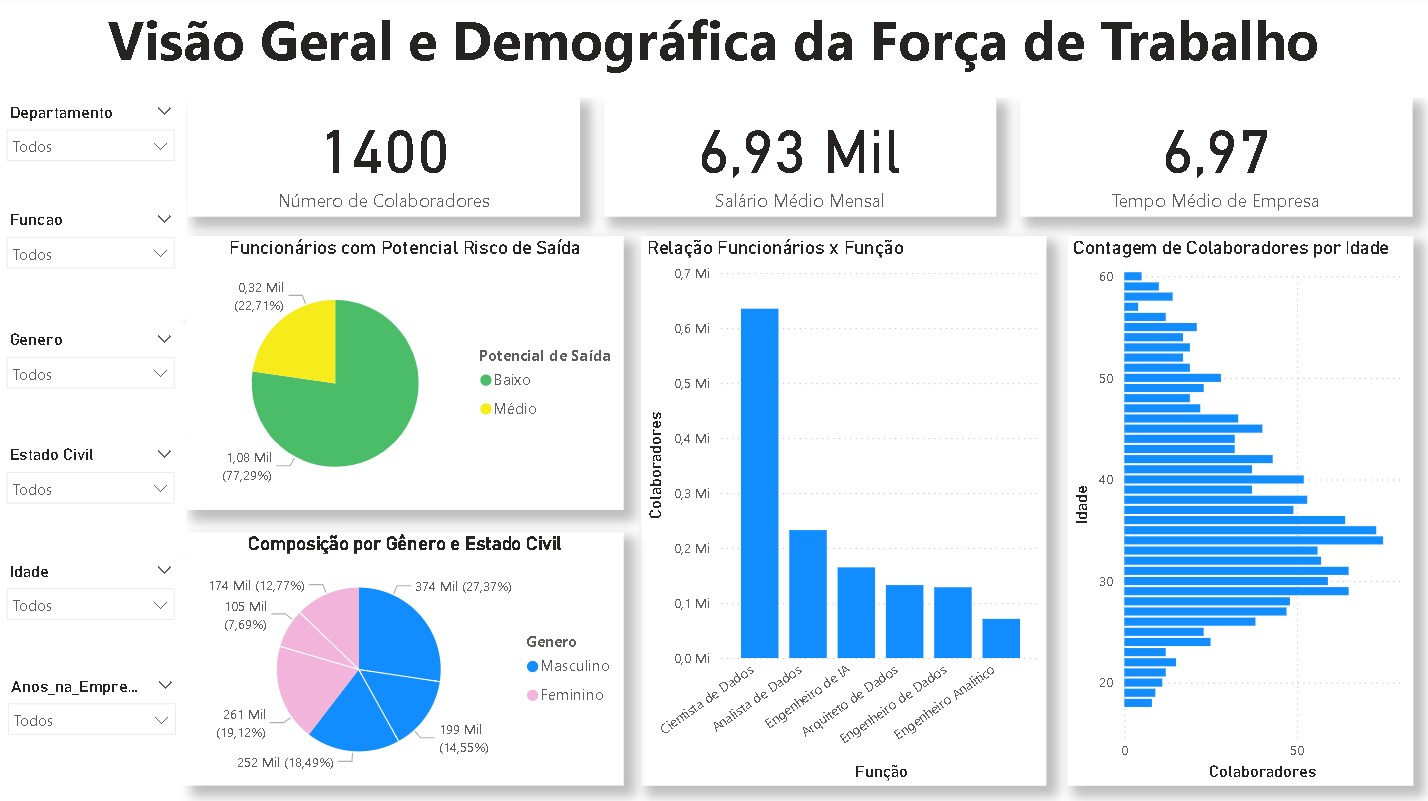

Layout of this report page (visuals, bound fields, positions):
{"tool":"powerbi","page":{"name":"Visão Geral e Demográfica da Força de Trabalho","canvas":[1280,720],"ordinal":0},"visuals":[{"type":"card","title":"Número de Colaboradores","fields":{"Values":["CountNonNull(DatasetRH.Id_Funcionario)"]},"box":[171.3,90.5,349.9,106.2],"z":0},{"type":"card","fields":{"Values":["Avg(DatasetRH.Anos_na_Empresa)"]},"box":[913.3,90.5,349.9,106.2],"z":1000},{"type":"card","fields":{"Values":["Avg(DatasetRH.Salario_Mensal)"]},"box":[541.7,90.5,349.9,106.2],"z":2000},{"type":"pieChart","title":"Funcionários com Potencial Risco de Saída","fields":{"Category":["DatasetRH.potencial_saida"],"Y":["CountNonNull(DatasetRH.Id_Funcionario)"]},"box":[170.1,213.5,389.7,243.7],"z":3000},{"type":"clusteredColumnChart","title":"Relação Funcionários x Função","fields":{"Category":["DatasetRH.Funcao"],"Y":["Sum(DatasetRH.Id_Funcionario)"]},"box":[575.5,213.5,360.7,489.8],"z":4000},{"type":"pieChart","title":"Composição por Gênero e Estado Civil","fields":{"Category":["DatasetRH.Genero"],"Y":["Sum(DatasetRH.Id_Funcionario)"],"Series":["DatasetRH.Estado Civil"]},"box":[170.1,477.8,389.7,225.6],"z":5000},{"type":"clusteredBarChart","title":"Contagem de Colaboradores por Idade","fields":{"Category":["DatasetRH.Idade"],"Y":["CountNonNull(DatasetRH.Departamento)"]},"box":[955.5,213.5,307.6,489.8],"z":6000},{"type":"slicer","fields":{"Values":["DatasetRH.Departamento"]},"box":[0,90.5,170.1,102.5],"z":7000},{"type":"slicer","fields":{"Values":["DatasetRH.Funcao"]},"box":[0,185.8,170.1,102.5],"z":8000},{"type":"slicer","fields":{"Values":["DatasetRH.Genero"]},"box":[0,293.2,170.1,102.5],"z":9000},{"type":"slicer","fields":{"Values":["DatasetRH.Estado Civil"]},"box":[0,395.7,170.1,102.5],"z":10000},{"type":"slicer","fields":{"Values":["DatasetRH.Idade"]},"box":[0,498.3,170.1,102.5],"z":11000},{"type":"slicer","fields":{"Values":["DatasetRH.Anos_na_Empresa"]},"box":[1.2,600.8,170.1,102.5],"z":12000},{"type":"textbox","box":[0,0,1280,90.5],"z":13000}]}

Visuals, with their boxes in screenshot pixels (x1, y1, x2, y2), scaled from the page's 1280x720 canvas onto the 1428x801 screenshot:
"Número de Colaboradores" card: bbox=[191, 101, 581, 219]
card - Avg(DatasetRH.Anos_na_Empresa): bbox=[1019, 101, 1409, 219]
card - Avg(DatasetRH.Salario_Mensal): bbox=[604, 101, 995, 219]
"Funcionários com Potencial Risco de Saída" pieChart: bbox=[190, 238, 625, 509]
"Relação Funcionários x Função" clusteredColumnChart: bbox=[642, 238, 1044, 782]
"Composição por Gênero e Estado Civil" pieChart: bbox=[190, 532, 625, 783]
"Contagem de Colaboradores por Idade" clusteredBarChart: bbox=[1066, 238, 1409, 782]
slicer - DatasetRH.Departamento: bbox=[0, 101, 190, 215]
slicer - DatasetRH.Funcao: bbox=[0, 207, 190, 321]
slicer - DatasetRH.Genero: bbox=[0, 326, 190, 440]
slicer - DatasetRH.Estado Civil: bbox=[0, 440, 190, 554]
slicer - DatasetRH.Idade: bbox=[0, 554, 190, 668]
slicer - DatasetRH.Anos_na_Empresa: bbox=[1, 668, 191, 782]
textbox: bbox=[0, 0, 1427, 101]
